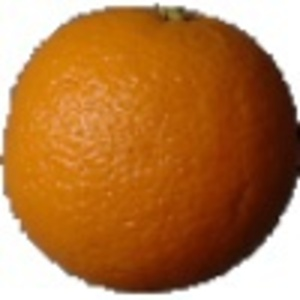laranja: (2, 2, 297, 296)
